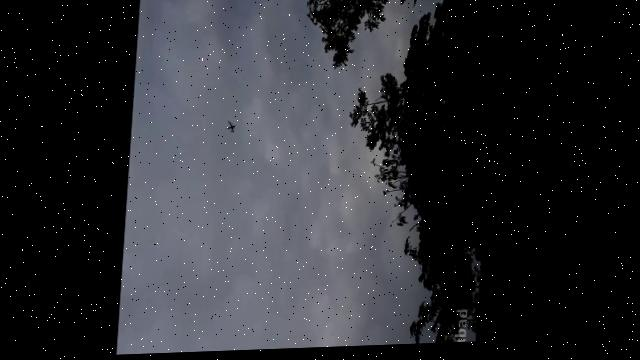drone: (227, 120, 239, 136)
